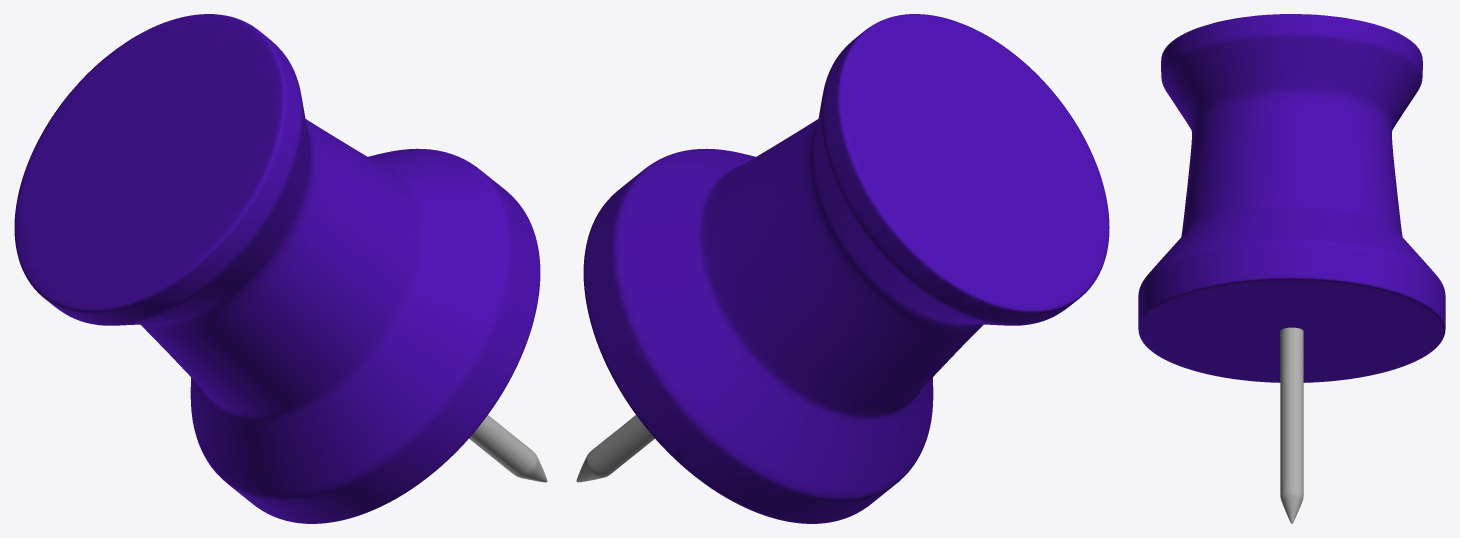
File: pin.glb
3 views of the same model, side by side, from view 1: azimuth 30°, elevation 25°; view 2: azimuth 150°, elevation 25°; view 3: azimuth 270°, elevation 25° (orthographic). The views are drawn at different scales.
Visible parts, largest first — view 1: Circle.013; view 2: Circle.013; view 3: Circle.013.
Boxes of the visible parts, <box> form: Circle.013: <box>14,14,547,523</box>; Circle.013: <box>576,14,1109,523</box>; Circle.013: <box>1138,14,1445,523</box>.
Bounding box in the file's own units: 1.74 × 1.74 × 1.21.
